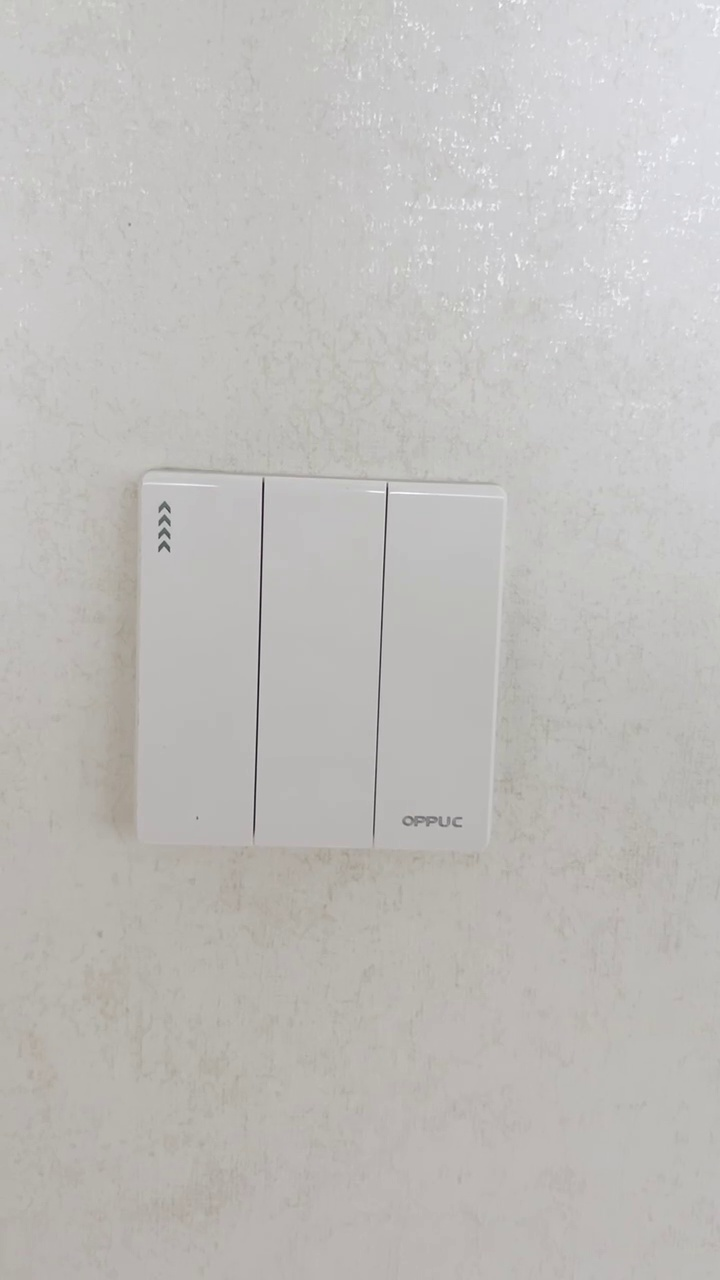button1: (260, 477, 379, 851), (381, 484, 499, 851), (142, 479, 255, 837)
